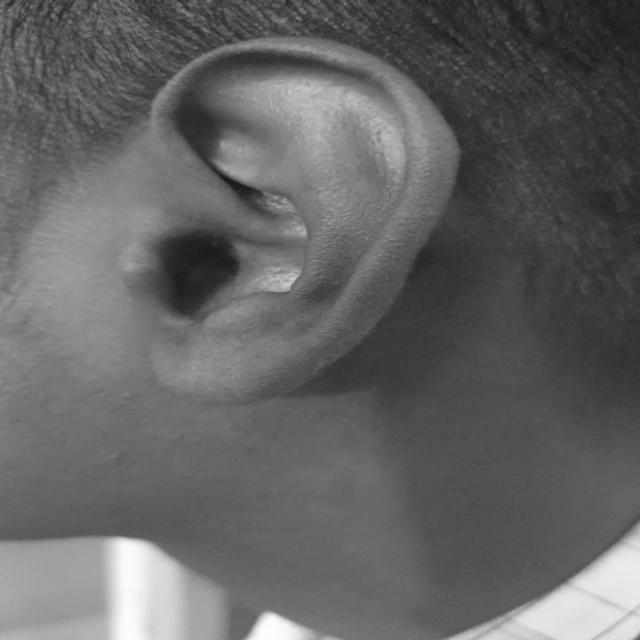ear: (118, 38, 457, 402)
